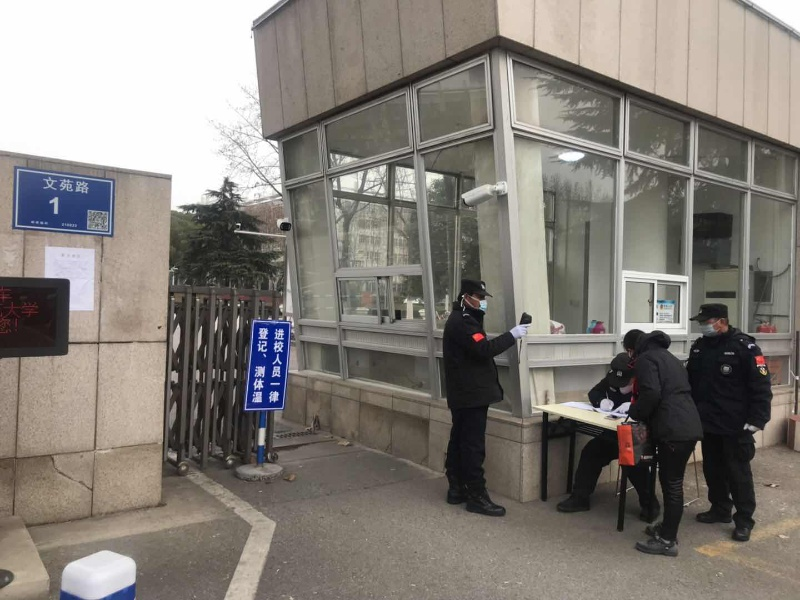ManaoArotava: (449, 267, 501, 319), (689, 296, 737, 346)
